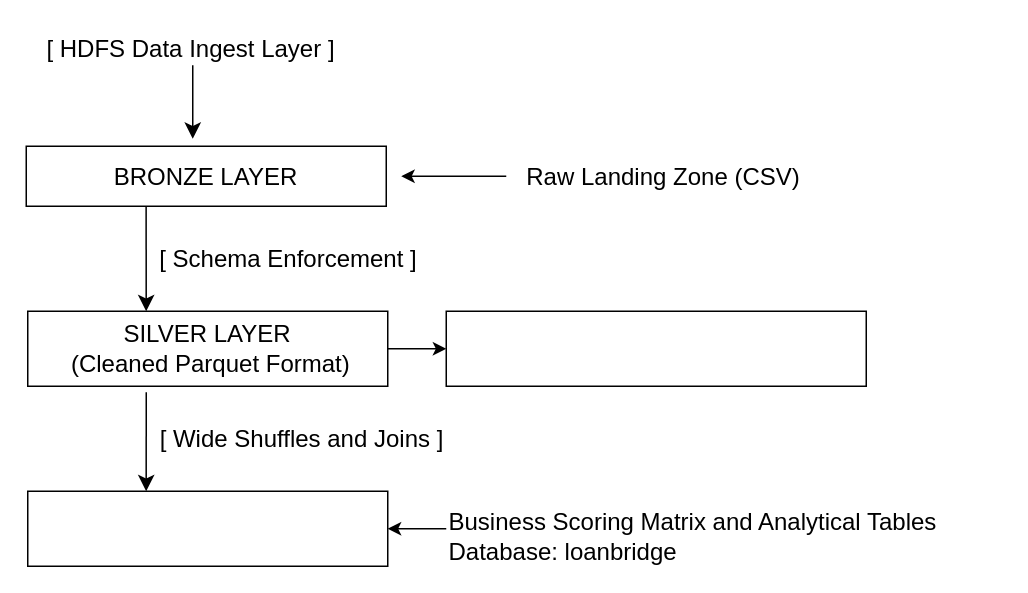
Some shapes in this 1028 by 593 pixel diagram are drawn without their labels. Each missing label, with the centre of its shape:
BAD RECORD ISOLATION (Quarantined Path + Audit Reason): the point at 655,348
GOLD LAYER (External Metastore Tables): the point at 207,528
